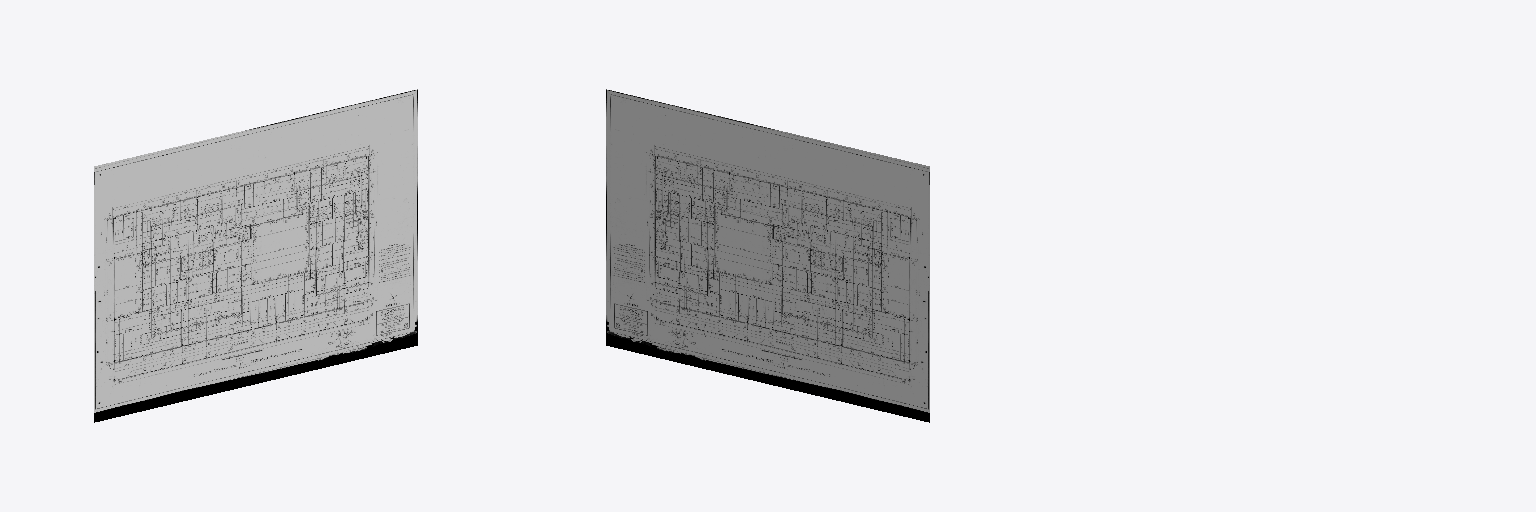
3 renders of one model, left to right at view 1: azimuth 30°, elevation 25°; view 2: azimuth 150°, elevation 25°; view 3: azimuth 270°, elevation 25°, orthographic.
Size of the model in its own units: 2274 by 1726 by 0.
Materials: 1 (1 with a texture image).